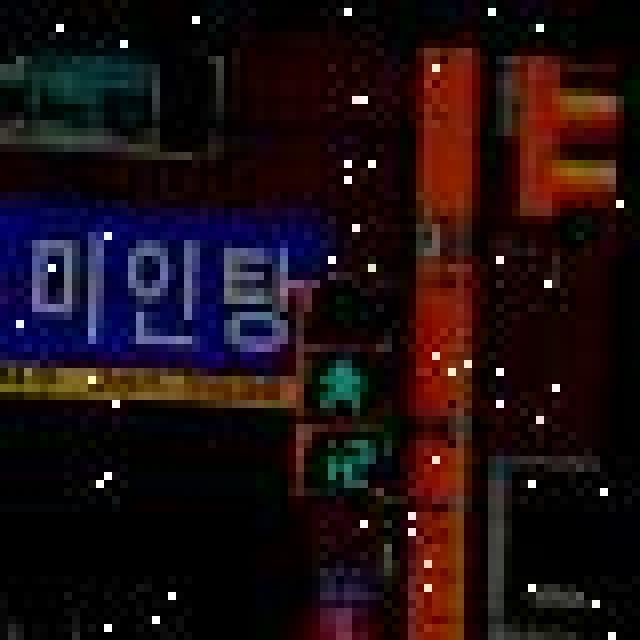greenlight: (287, 266, 399, 428)
